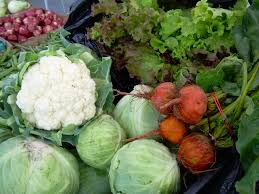cabbage: (1, 134, 80, 194), (114, 135, 185, 194), (75, 118, 126, 172), (116, 87, 161, 134)
